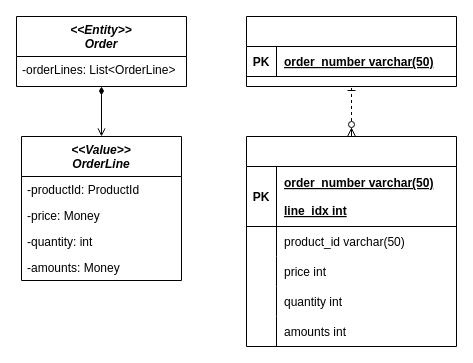
Some shapes in this 473 by 363 pixel diagram are drawn without their labels. The box of each missing label's shape, as (x1, y1, x2, y2) in pixels:
order_line: (246, 136, 456, 346)
purchase_order: (246, 16, 456, 86)
